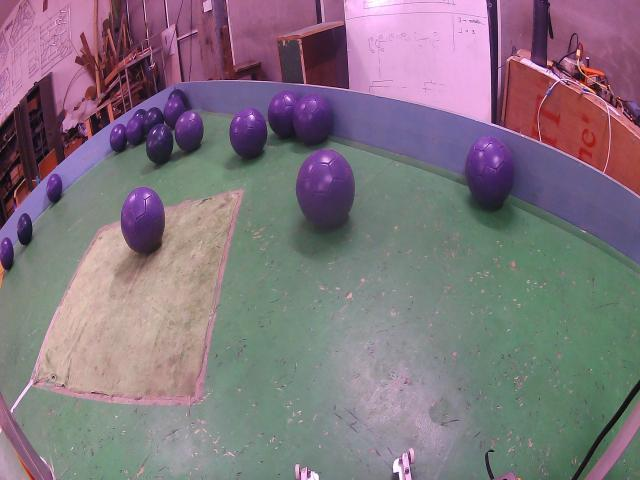jambhalya: (296, 150, 355, 228), (465, 137, 514, 207), (120, 187, 165, 252), (292, 93, 332, 145), (230, 108, 268, 158), (268, 90, 300, 138), (175, 110, 204, 152), (164, 97, 185, 128), (126, 115, 144, 145), (46, 173, 62, 203), (110, 123, 126, 152), (0, 237, 14, 270)
kaalyya: (146, 123, 174, 163), (142, 107, 164, 135), (16, 213, 32, 245), (169, 88, 188, 107), (134, 108, 146, 117)
